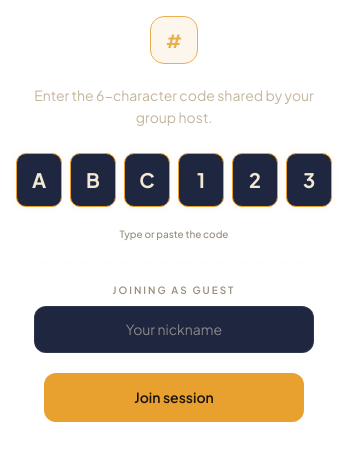
Test: SessionJoin › shows error when nickname is empty and guest submits
The image size is (349, 470).
Click the button "Join session" at coordinates (174, 397), box [44, 373, 304, 422]
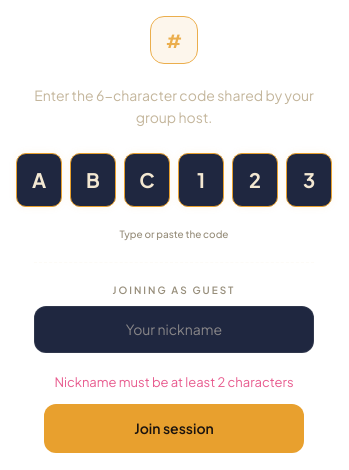
Expected: the text "Nickname must be at least 2 characters" is shown, [54, 373, 294, 392]
